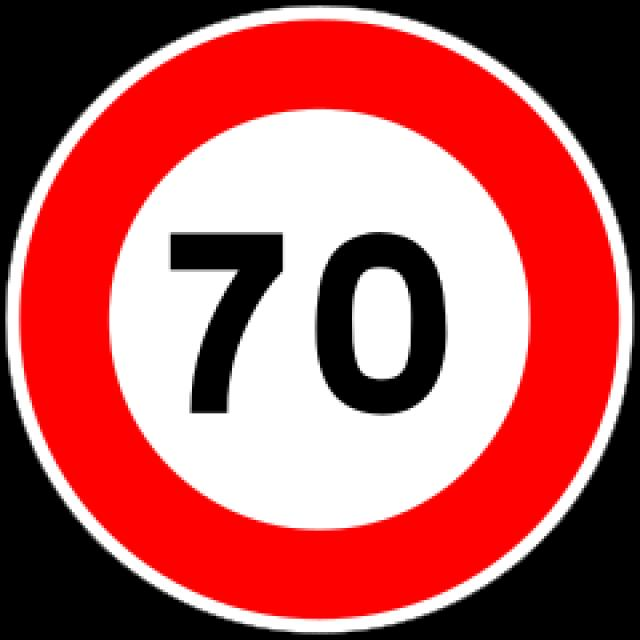Speed Limit -70-: (140, 185, 468, 444)
